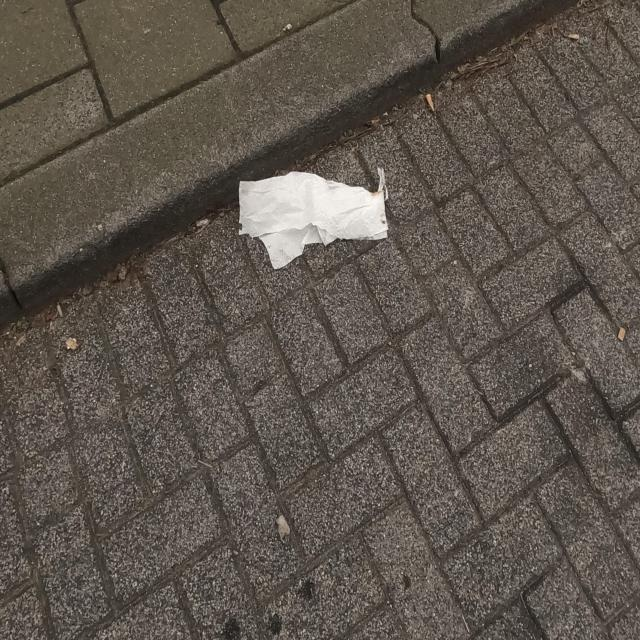Paper: (238, 166, 390, 272)
